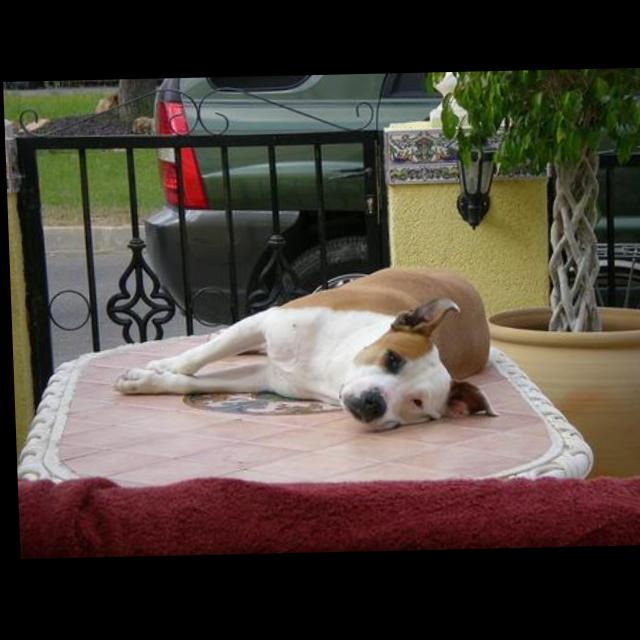amstaff: (107, 266, 497, 438)
